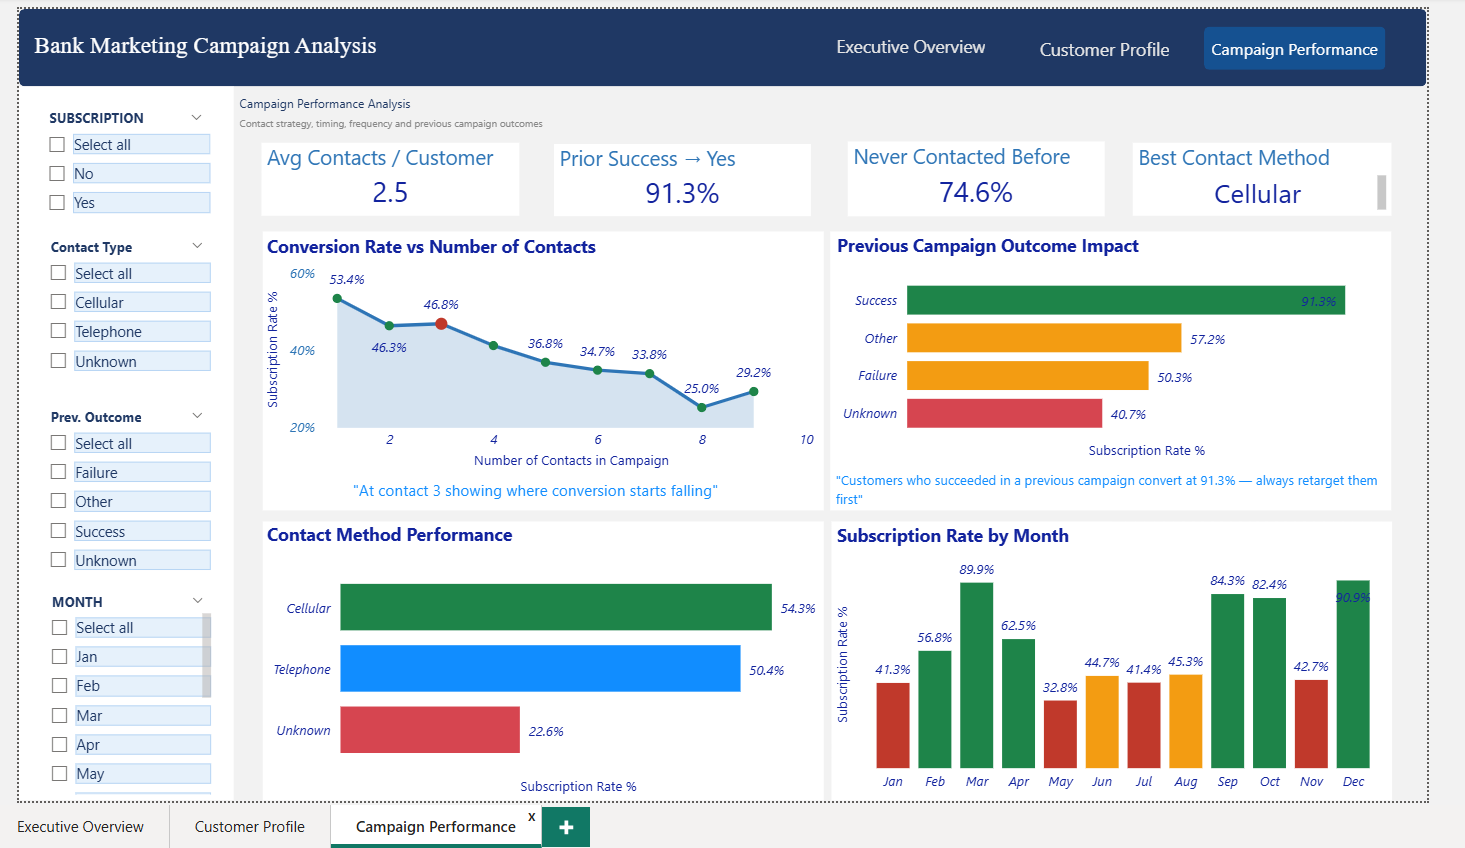

The page's visual inventory and layout, read from the dashboard file:
{"tool":"powerbi","page":{"name":"Campaign Performance","canvas":[1280,720],"ordinal":2},"visuals":[{"type":"shape","box":[0,0,1279.6,70.4],"z":0},{"type":"shape","box":[0,70.9,195.3,648.8],"z":1000},{"type":"textbox","box":[9.3,16.3,383.7,37.2],"z":2000},{"type":"actionButton","box":[733.7,14,153.5,39.5],"z":3000},{"type":"actionButton","box":[910.5,16.3,153.5,39.5],"z":4000},{"type":"actionButton","box":[1076.7,16.3,165.1,39.5],"z":5000},{"type":"slicer","fields":{"Values":["Bank Campaign.Deposit"]},"box":[15.1,86,164,117.4],"z":6000},{"type":"slicer","fields":{"Values":["Bank Campaign.Contact"]},"box":[15.6,203.9,163.6,141.6],"z":7000},{"type":"slicer","fields":{"Values":["Bank Campaign.POutcome"]},"box":[15.6,358.4,163.6,167.5],"z":8000},{"type":"slicer","fields":{"Values":["Bank Campaign.Month"]},"box":[17.1,525.7,162.9,192.9],"z":9000},{"type":"shape","box":[738,202.8,510,253.5],"z":10000},{"type":"textbox","box":[195.2,70.9,361.4,74.4],"z":11000},{"type":"card","title":"Avg Contacts / Customer","fields":{"Values":["Bank Campaign.AVG Contacts"]},"box":[220.8,122,234.7,66.2],"z":12000},{"type":"card","title":"Never Contacted Before","fields":{"Values":["Bank Campaign.Never Contacted %"]},"box":[753.9,120.9,233.5,67.6],"z":13000},{"type":"card","title":"Prior Success → Yes","fields":{"Values":["Bank Campaign.Prior Success Rate %"]},"box":[486.2,122.7,233.6,65.7],"z":14000},{"type":"shape","box":[221.1,466.2,510,253.5],"z":15000},{"type":"shape","box":[738.5,465.9,509.9,253.8],"z":16000},{"type":"shape","box":[221.1,202.8,510,253.5],"z":17000},{"type":"textbox","title":"Best Contact Method","box":[1013,122.1,235.1,66.2],"z":18000},{"type":"areaChart","title":"Conversion Rate vs Number of Contacts","fields":{"Category":["Bank Campaign.Campaign"],"Y":["Bank Campaign.Subscription Rate %"]},"box":[220.8,204.5,510.1,218.4],"z":19000},{"type":"barChart","title":"Previous Campaign Outcome Impact","fields":{"Category":["Bank Campaign.POutcome"],"Y":["Bank Campaign.Subscription Rate %"]},"box":[739,203.3,510.1,210.3],"z":20000},{"type":"textbox","box":[737.8,413.7,510.1,52.3],"z":21000},{"type":"barChart","title":"Contact Method Performance","fields":{"Y":["Bank Campaign.Subscription Rate %"],"Category":["Bank Campaign.Contact"]},"box":[220.8,465.9,510.1,253.3],"z":22000},{"type":"textbox","box":[220.8,423,498.5,33.7],"z":23000},{"type":"columnChart","title":"Subscription Rate by Month","fields":{"Y":["Bank Campaign.Subscription Rate %"],"Category":["Bank Campaign.Month"]},"box":[739,467.1,510.1,253.3],"z":24000}]}

Visuals, with their boxes on the page's 1280x720 design canvas (x1, y1, x2, y2). These are canvas units, not pixel positions in the 1465x848 screenshot, which may show the page scaled, cropped or inside an application window:
shape: pyautogui.locateOnScreen(0, 0, 1280, 70)
shape: pyautogui.locateOnScreen(0, 71, 195, 720)
textbox: pyautogui.locateOnScreen(9, 16, 393, 54)
actionButton: pyautogui.locateOnScreen(734, 14, 887, 54)
actionButton: pyautogui.locateOnScreen(910, 16, 1064, 56)
actionButton: pyautogui.locateOnScreen(1077, 16, 1242, 56)
slicer - Bank Campaign.Deposit: pyautogui.locateOnScreen(15, 86, 179, 203)
slicer - Bank Campaign.Contact: pyautogui.locateOnScreen(16, 204, 179, 346)
slicer - Bank Campaign.POutcome: pyautogui.locateOnScreen(16, 358, 179, 526)
slicer - Bank Campaign.Month: pyautogui.locateOnScreen(17, 526, 180, 719)
shape: pyautogui.locateOnScreen(738, 203, 1248, 456)
textbox: pyautogui.locateOnScreen(195, 71, 557, 145)
"Avg Contacts / Customer" card: pyautogui.locateOnScreen(221, 122, 456, 188)
"Never Contacted Before" card: pyautogui.locateOnScreen(754, 121, 987, 188)
"Prior Success → Yes" card: pyautogui.locateOnScreen(486, 123, 720, 188)
shape: pyautogui.locateOnScreen(221, 466, 731, 720)
shape: pyautogui.locateOnScreen(738, 466, 1248, 720)
shape: pyautogui.locateOnScreen(221, 203, 731, 456)
"Best Contact Method" textbox: pyautogui.locateOnScreen(1013, 122, 1248, 188)
"Conversion Rate vs Number of Contacts" areaChart: pyautogui.locateOnScreen(221, 204, 731, 423)
"Previous Campaign Outcome Impact" barChart: pyautogui.locateOnScreen(739, 203, 1249, 414)
textbox: pyautogui.locateOnScreen(738, 414, 1248, 466)
"Contact Method Performance" barChart: pyautogui.locateOnScreen(221, 466, 731, 719)
textbox: pyautogui.locateOnScreen(221, 423, 719, 457)
"Subscription Rate by Month" columnChart: pyautogui.locateOnScreen(739, 467, 1249, 720)
